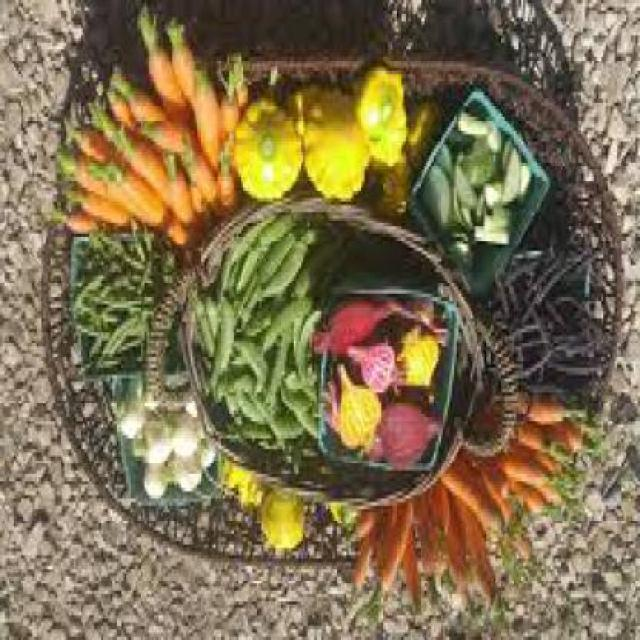BIODEGRADABLE: (76, 245, 172, 368), (94, 156, 192, 255), (238, 91, 312, 206), (303, 92, 374, 208), (514, 247, 600, 336), (443, 460, 523, 555), (449, 496, 505, 626), (367, 506, 418, 632), (315, 300, 410, 365), (140, 10, 191, 124), (443, 467, 511, 548), (358, 71, 408, 177), (234, 294, 274, 414), (495, 272, 553, 354), (119, 128, 179, 202), (340, 368, 386, 460), (264, 219, 314, 301), (62, 148, 126, 212), (381, 406, 441, 474), (298, 233, 356, 301), (526, 351, 596, 403), (500, 463, 575, 509), (523, 399, 608, 439), (348, 343, 404, 403), (261, 304, 317, 361), (229, 392, 280, 452), (192, 68, 220, 177), (164, 148, 196, 241), (264, 492, 307, 559), (111, 70, 160, 128), (550, 300, 599, 357), (71, 184, 131, 230), (167, 21, 198, 110), (183, 148, 220, 222), (400, 332, 442, 396), (505, 526, 546, 591), (236, 372, 279, 432), (518, 432, 574, 478), (451, 156, 484, 233), (532, 456, 590, 499), (422, 166, 455, 240), (500, 142, 534, 212), (348, 540, 381, 612), (411, 99, 443, 170), (458, 113, 504, 162), (399, 537, 424, 626), (215, 298, 237, 399), (494, 533, 528, 598), (452, 516, 474, 612), (463, 142, 500, 198), (301, 319, 325, 403), (261, 241, 301, 290), (238, 347, 270, 407), (71, 127, 111, 173), (383, 174, 417, 226), (408, 304, 448, 347), (53, 204, 96, 244), (514, 484, 557, 524), (557, 428, 606, 463), (222, 56, 241, 146), (146, 414, 177, 466), (168, 456, 205, 499), (433, 484, 455, 551), (116, 396, 147, 442), (378, 505, 399, 570), (477, 215, 514, 251), (105, 94, 136, 134), (344, 513, 378, 549), (172, 424, 202, 464), (223, 148, 239, 220), (92, 100, 117, 146), (238, 245, 260, 297), (199, 301, 218, 361), (147, 466, 175, 506), (241, 477, 268, 517), (284, 389, 314, 425), (445, 241, 472, 276), (411, 498, 429, 548), (429, 491, 443, 555), (274, 418, 306, 445), (242, 396, 266, 432), (299, 410, 323, 445), (193, 177, 209, 229), (330, 505, 358, 530), (292, 328, 310, 364), (227, 467, 245, 502), (199, 442, 218, 473), (238, 81, 251, 117), (479, 194, 512, 208), (186, 403, 202, 431), (135, 442, 151, 463)
